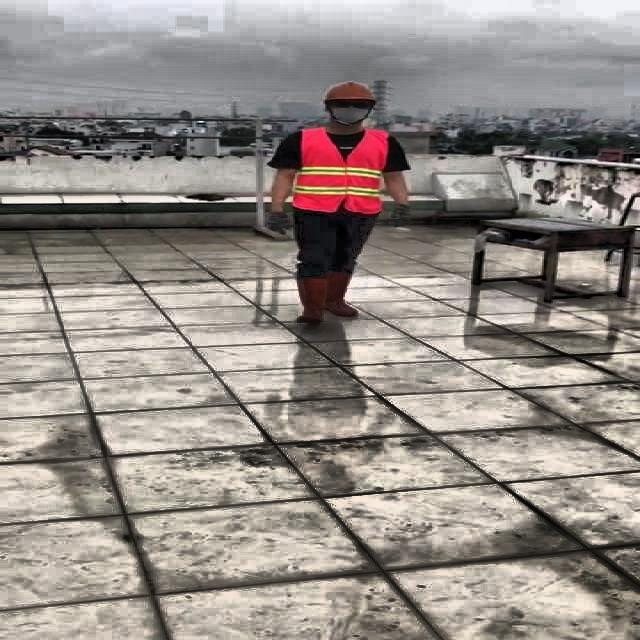safety_helmet: (323, 77, 379, 107)
safety_jacket: (297, 127, 384, 213)
